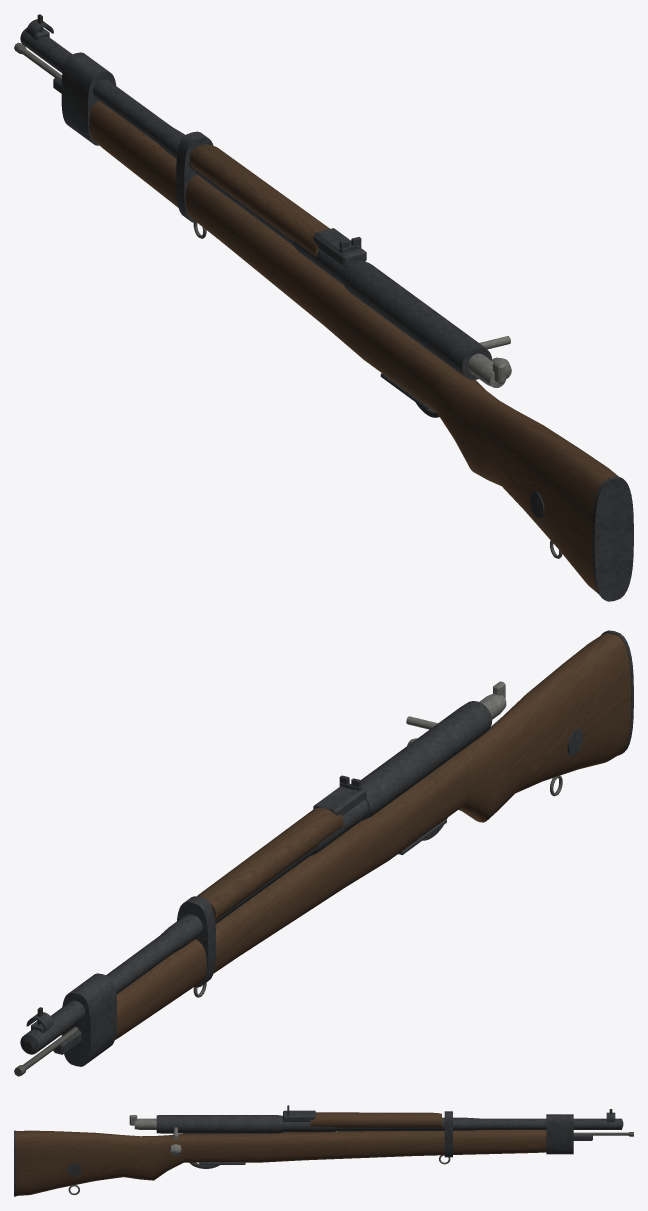
Rendered from kar98k.glb.
3 renders of one model, top to bottom at view 1: azimuth 30°, elevation 25°; view 2: azimuth 150°, elevation 25°; view 3: azimuth 270°, elevation 25°, orthographic. The views are drawn at different scales.
Visible parts, largest first — view 1: FP_body, TP_body, WD_body, FP_bolt; view 2: FP_body, TP_body, FP_bolt; view 3: FP_body, TP_body, FP_bolt.
Part boxes in pixels (x1,y1,x2,y2): FP_body: [14, 14, 633, 601]; TP_body: [22, 32, 633, 601]; WD_body: [88, 77, 633, 600]; FP_bolt: [467, 336, 511, 387]; FP_body: [14, 630, 633, 1076]; TP_body: [22, 631, 632, 1066]; FP_bolt: [406, 681, 506, 745]; FP_body: [14, 1105, 633, 1196]; TP_body: [14, 1112, 621, 1196]; FP_bolt: [129, 1115, 181, 1155].
Size of the model in its own units: 0.0775 by 0.176 by 1.13.
5 materials, 5 textured.
